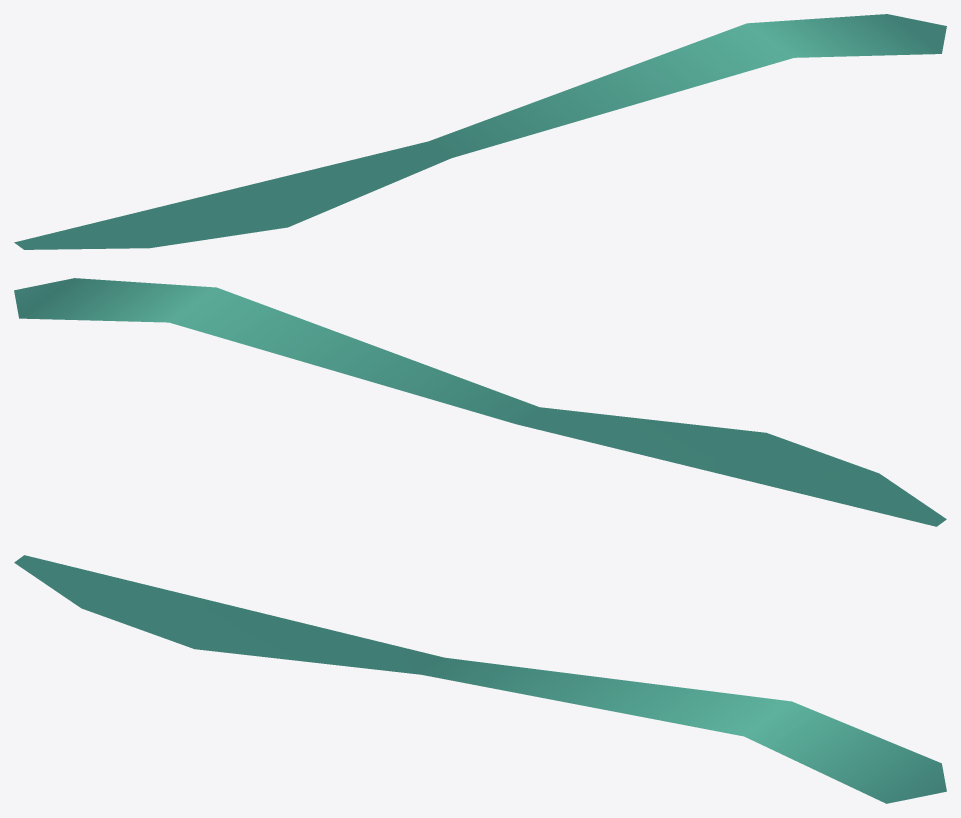
Rendered from utensil-knife.glb.
The picture shows the model from 3 angles, top to bottom: view 1: azimuth 30°, elevation 25°; view 2: azimuth 150°, elevation 25°; view 3: azimuth 330°, elevation 25°; orthographic projection.
Parts seen in each view (by area): view 1: utensil-knife; view 2: utensil-knife; view 3: utensil-knife.
Part boxes in pixels (x1,y1,x2,y2): utensil-knife: (14,14,946,249); utensil-knife: (14,278,946,526); utensil-knife: (14,555,946,803).
Bounding box in the file's own units: 0.6008 × 0.0178 × 0.0778.
1 material, 1 textured.
